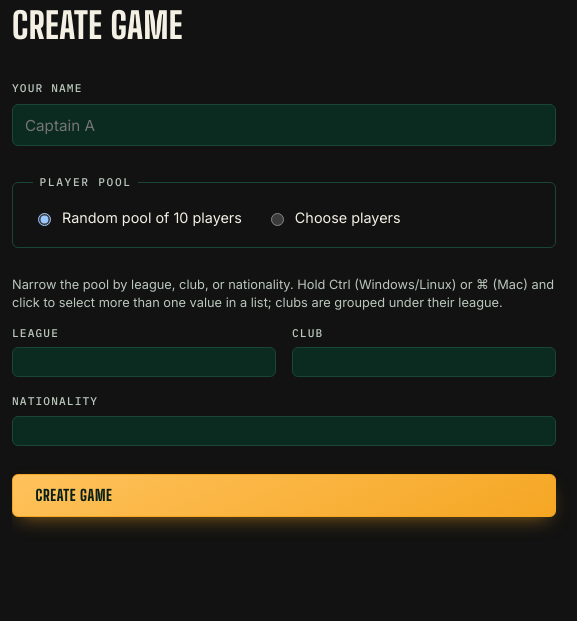
CreateGamePage › shows an error message when creation fails
Step 1. Click the button "Create game" → {"x": 74, "y": 495}, box [12,474,556,517]
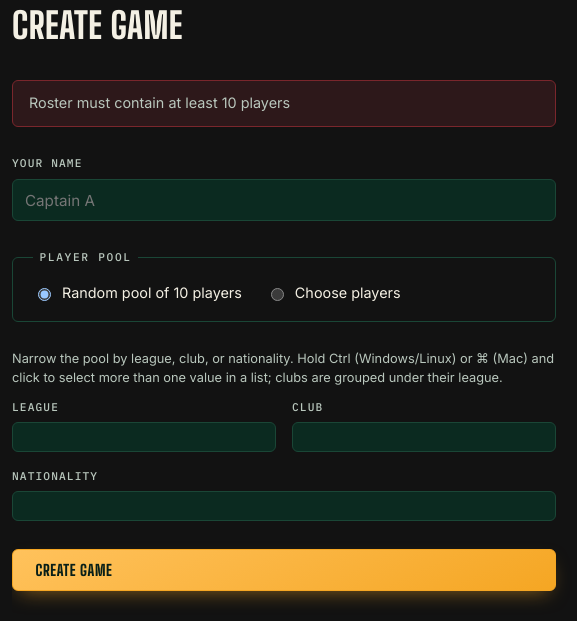
Expected: the text "Roster must contain at least 10 players" is shown, [12,80,556,127]
